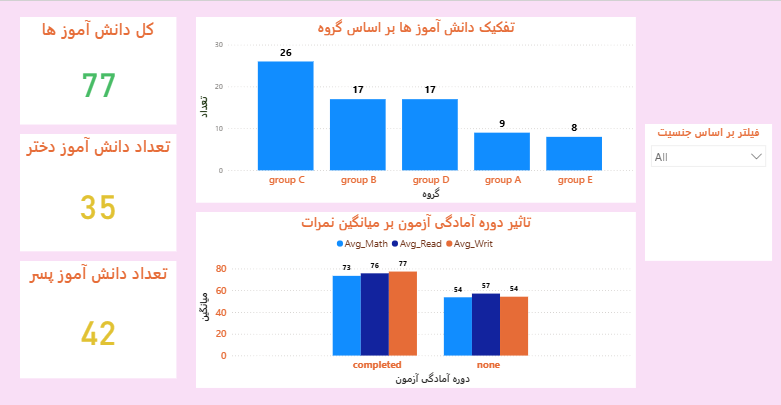

What the dashboard file says about the page in this screenshot:
{"tool":"powerbi","page":{"name":"Page 1","canvas":[1280,720],"ordinal":0},"visuals":[{"type":"cardVisual","title":"کل دانش آموز ها","fields":{"Data":["CountNonNull(student_performance_cleaned.gender)"]},"box":[32,80,256,176],"z":0},{"type":"cardVisual","title":"تعداد دانش آموز دختر","fields":{"Data":["CountNonNull(student_performance_cleaned.gender)"]},"box":[32,272,256,192],"z":1000},{"type":"cardVisual","title":"تعداد دانش آموز پسر","fields":{"Data":["CountNonNull(student_performance_cleaned.gender)"]},"box":[32,480,256,192],"z":2000},{"type":"clusteredColumnChart","title":"تفکیک دانش آموز ها بر اساس گروه","fields":{"Y":["CountNonNull(student_performance_cleaned.race_ethnicity)"],"Category":["student_performance_cleaned.race_ethnicity"]},"box":[320,80,720,304],"z":3000},{"type":"clusteredColumnChart","title":"تاثیر دوره آمادگی آزمون بر میانگین نمرات","fields":{"Category":["student_performance_cleaned.test_preparation_course"],"Y":["student_performance_cleaned.Avg_Math","student_performance_cleaned.Avg_Read","student_performance_cleaned.Avg_Writ"]},"box":[320,400,720,288],"z":4000},{"type":"slicer","title":"فیلتر بر اساس جنسیت","fields":{"Values":["student_performance_cleaned.gender"]},"box":[1056,256,208,224],"z":5000},{"type":"actionButton","box":[0,0,100,40],"z":5001}]}

Visuals, with their boxes on the page's 1280x720 design canvas (x1, y1, x2, y2). These are canvas units, not pixel positions in the 781x405 screenshot, which may show the page scaled, cropped or inside an application window:
"کل دانش آموز ها" cardVisual: x1=32, y1=80, x2=288, y2=256
"تعداد دانش آموز دختر" cardVisual: x1=32, y1=272, x2=288, y2=464
"تعداد دانش آموز پسر" cardVisual: x1=32, y1=480, x2=288, y2=672
"تفکیک دانش آموز ها بر اساس گروه" clusteredColumnChart: x1=320, y1=80, x2=1040, y2=384
"تاثیر دوره آمادگی آزمون بر میانگین نمرات" clusteredColumnChart: x1=320, y1=400, x2=1040, y2=688
"فیلتر بر اساس جنسیت" slicer: x1=1056, y1=256, x2=1264, y2=480
actionButton: x1=0, y1=0, x2=100, y2=40
